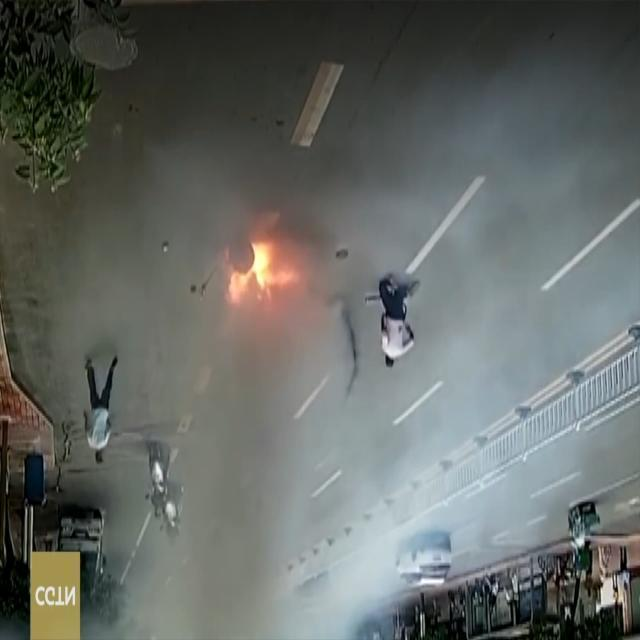fire: (216, 224, 306, 326)
